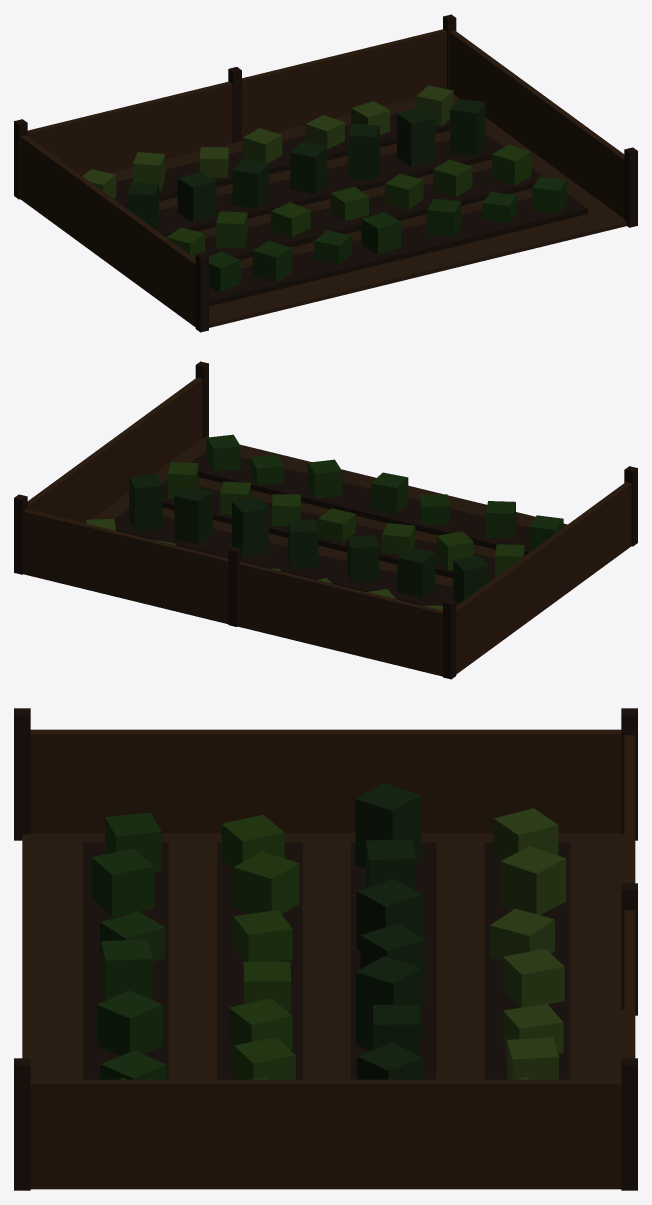
File: garden.fbx
The picture shows the model from 3 angles, top to bottom: view 1: azimuth 30°, elevation 25°; view 2: azimuth 150°, elevation 25°; view 3: azimuth 270°, elevation 25°; orthographic projection. The views are drawn at different scales.
Parts seen in each view (by area): view 1: garden; view 2: garden; view 3: garden.
Boxes of the visible parts, x1,y1,x2,y2 form: garden: (14,14,637,332); garden: (14,361,637,679); garden: (14,708,637,1190).
Bounding box in the file's own units: 6.12 × 1 × 4.52.
